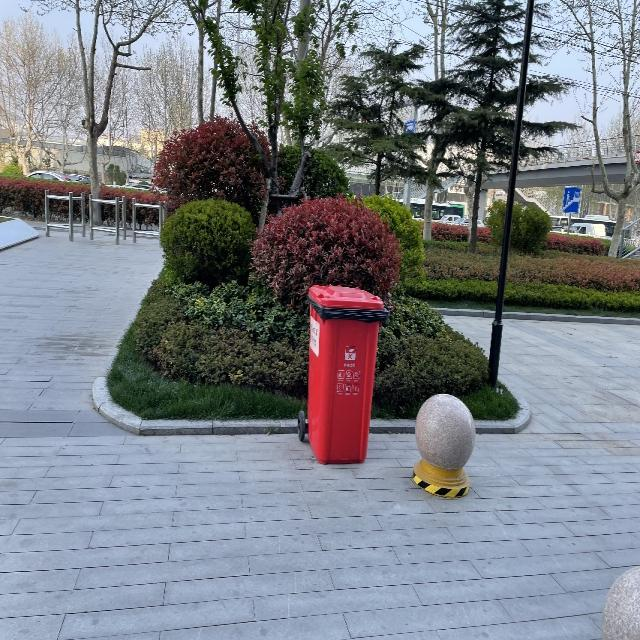garbage_bin: (304, 284, 386, 463)
